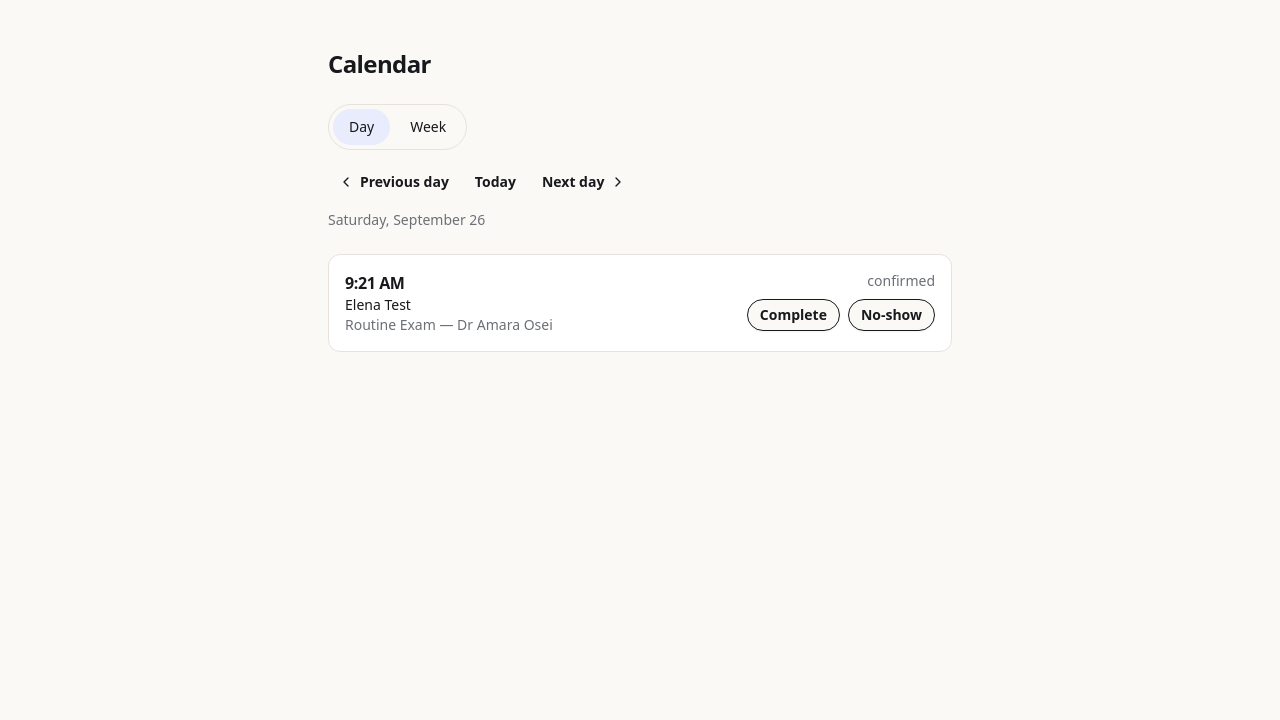
Test: closing an appointment out › confirming No-show closes it out
Expected: the text "Elena Test" is shown, [345, 295, 411, 314]
Step 1. Click the button "No-show" → (891, 315), box [848, 299, 935, 331]
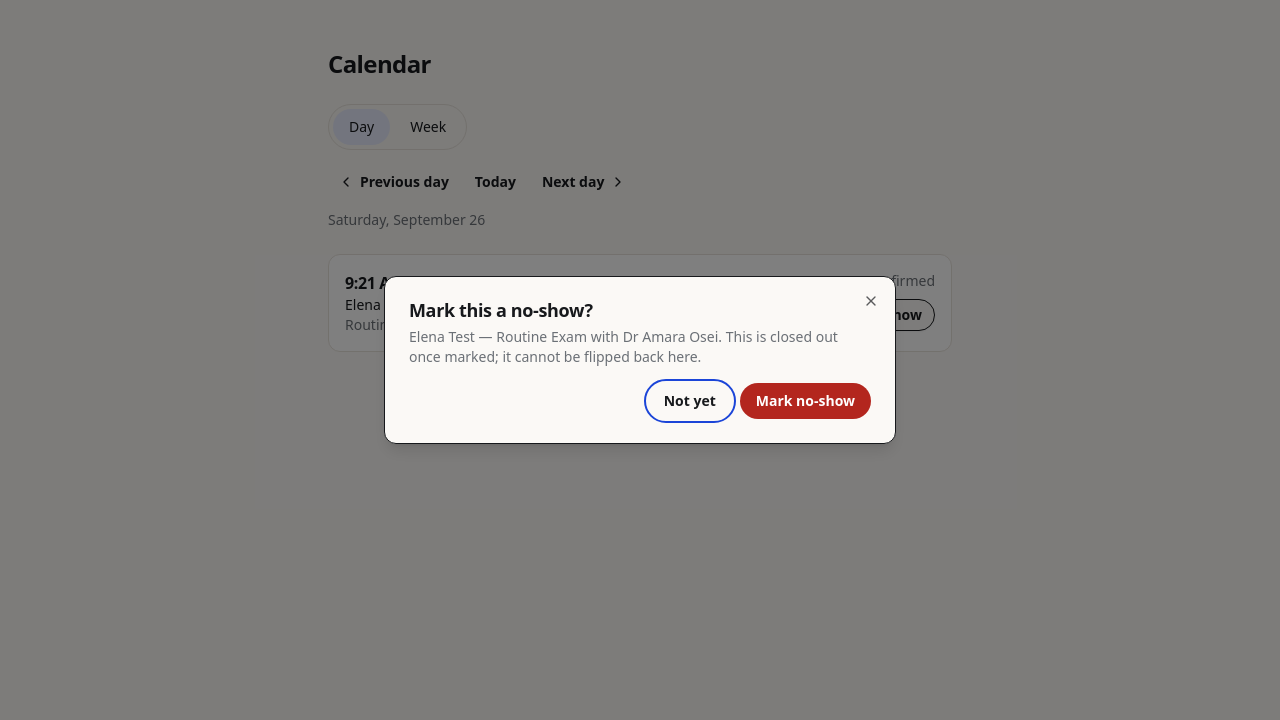
Expected: the heading "Mark this a no-show?" is shown, [409, 298, 593, 322]
Step 2. Click the button "Mark no-show" → (805, 401), box [740, 383, 871, 419]
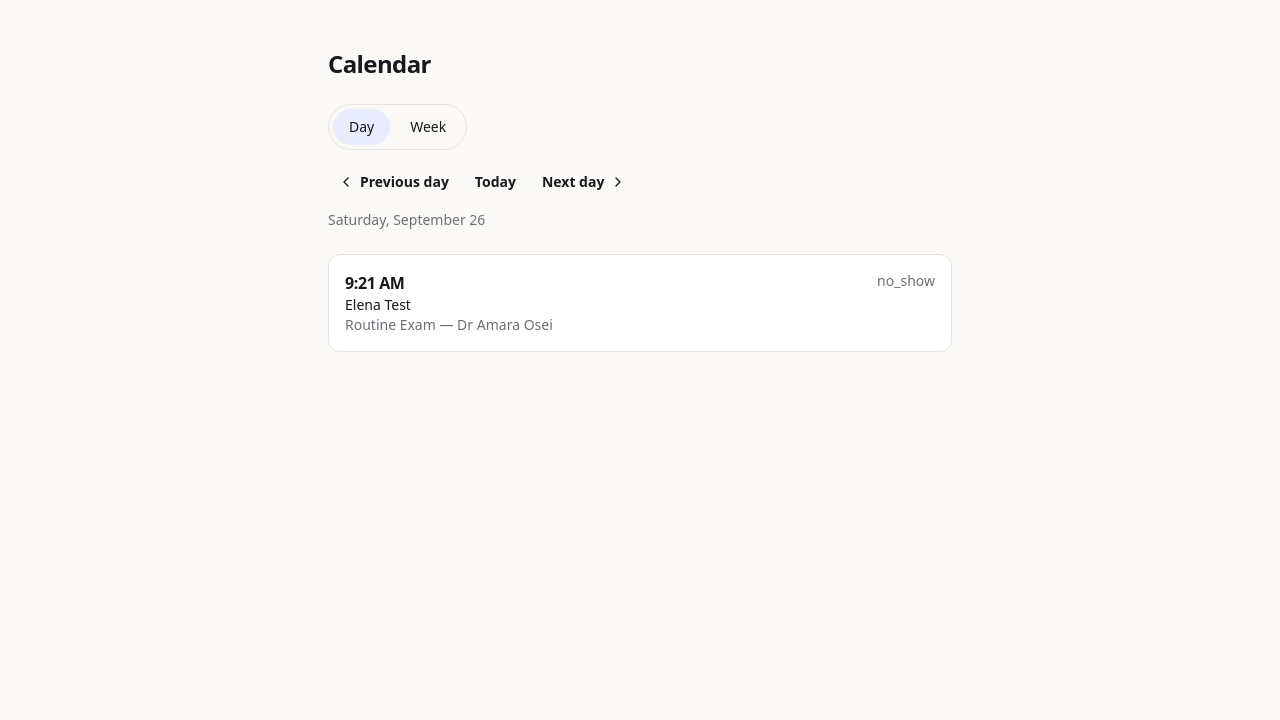
Expected: the text "no_show" is shown, [877, 271, 935, 291]
